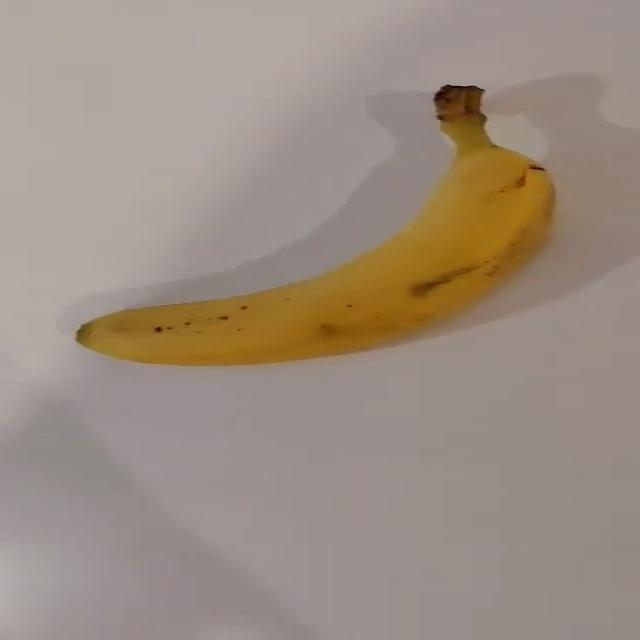Banana: (76, 138, 552, 359)
